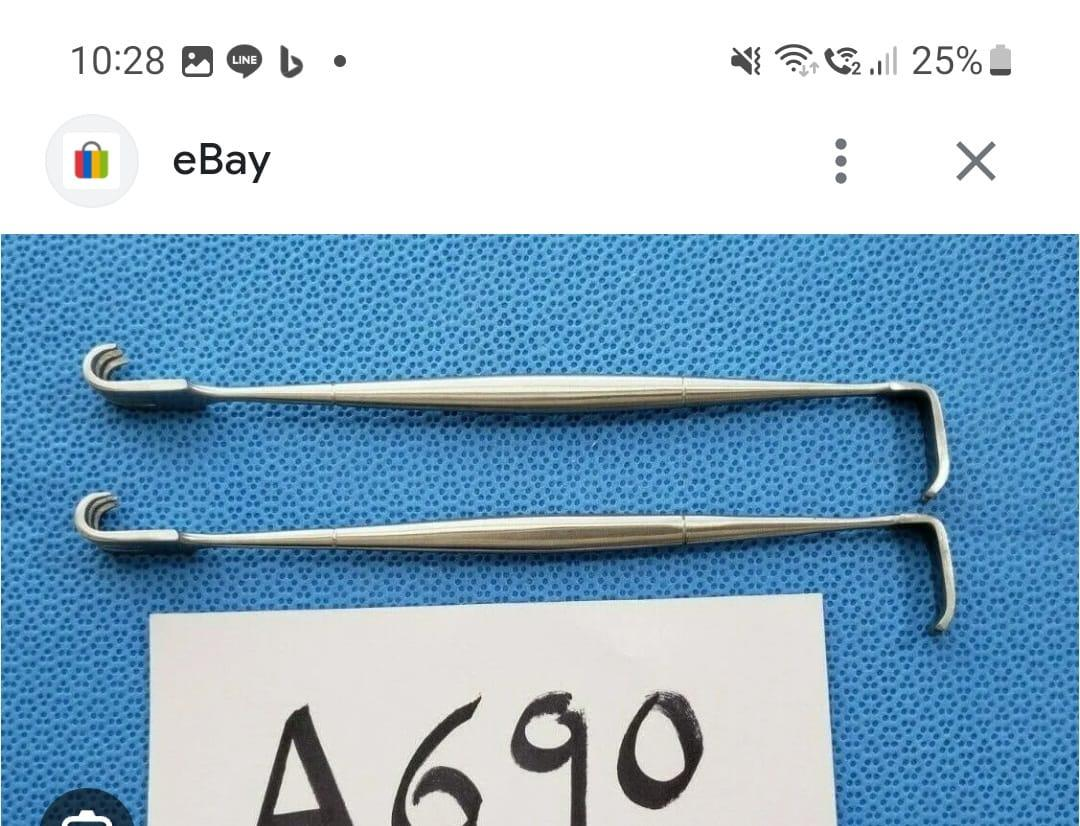Senn Retractor: (80, 334, 956, 505), (68, 489, 974, 641)
